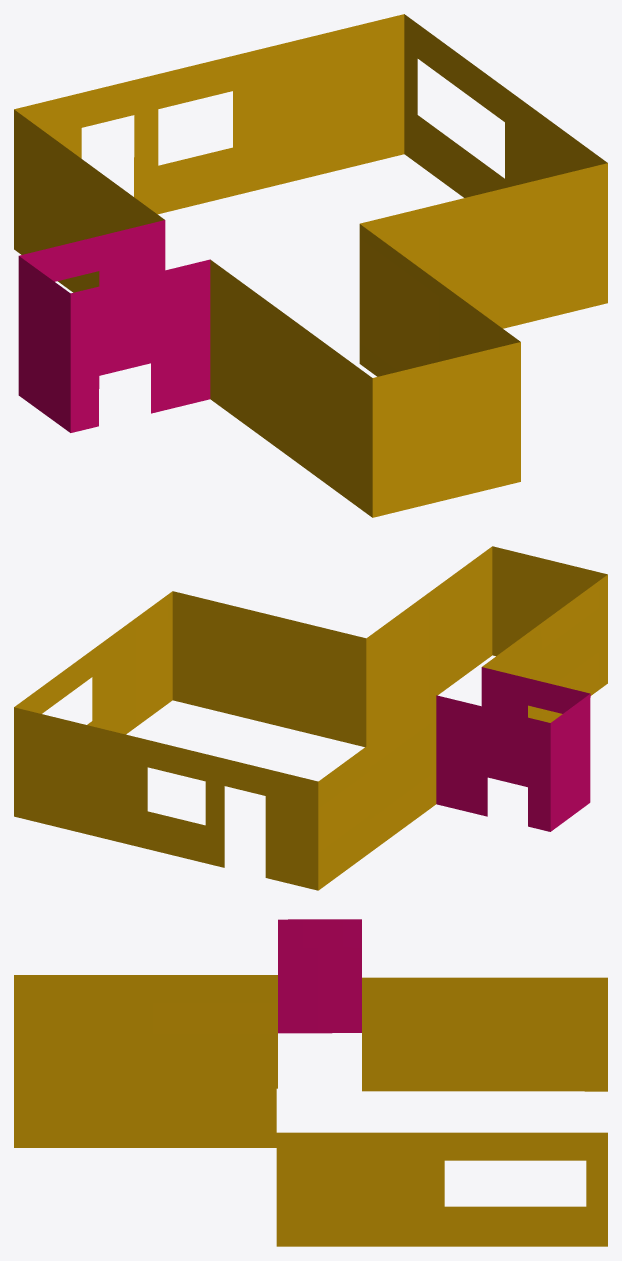
The picture shows the model from 3 angles, top to bottom: view 1: azimuth 30°, elevation 25°; view 2: azimuth 150°, elevation 25°; view 3: azimuth 270°, elevation 25°; orthographic projection. The views are drawn at different scales.
Parts seen in each view (by area): view 1: H07C_WP_03; view 2: H07C_WP_03; view 3: H07C_WP_03.
Boxes of the visible parts, box(x1,y1,x2,y2) form: H07C_WP_03: box(14, 14, 607, 517); H07C_WP_03: box(14, 546, 607, 890); H07C_WP_03: box(14, 919, 607, 1246).
Size of the model in its own units: 1202 by 300 by 1416.
